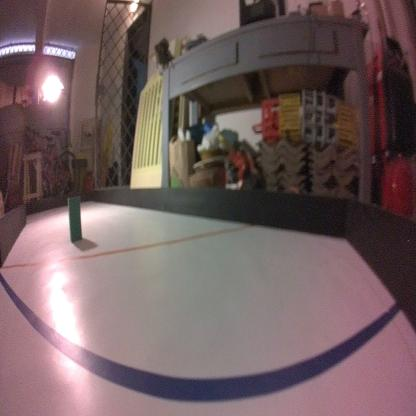green: (66, 193, 84, 245)
